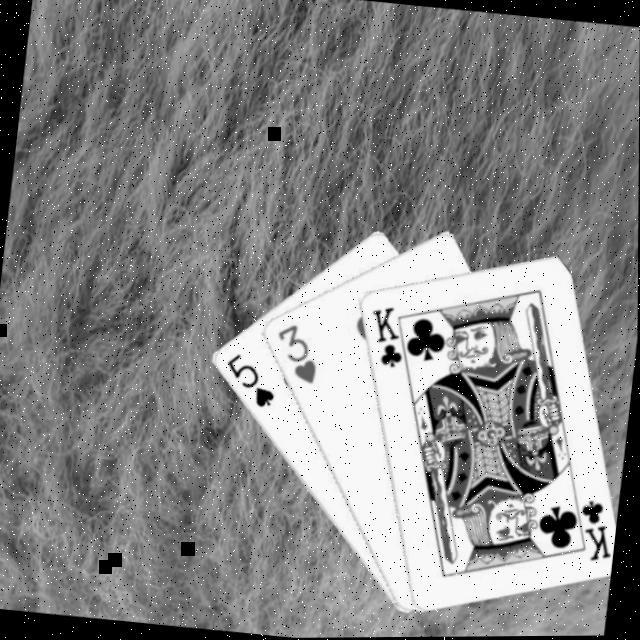3H: (270, 320, 326, 390)
5S: (221, 352, 283, 414)
KC: (564, 494, 620, 568), (364, 304, 421, 376)
